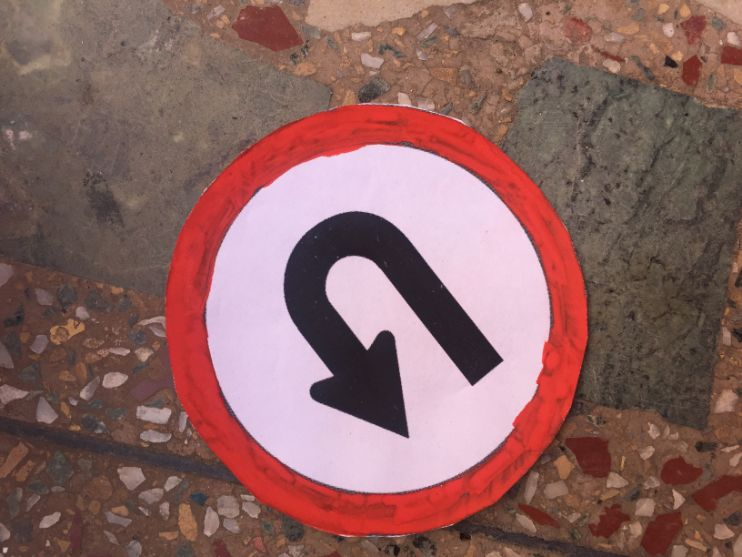u-turn: (163, 106, 584, 541)
